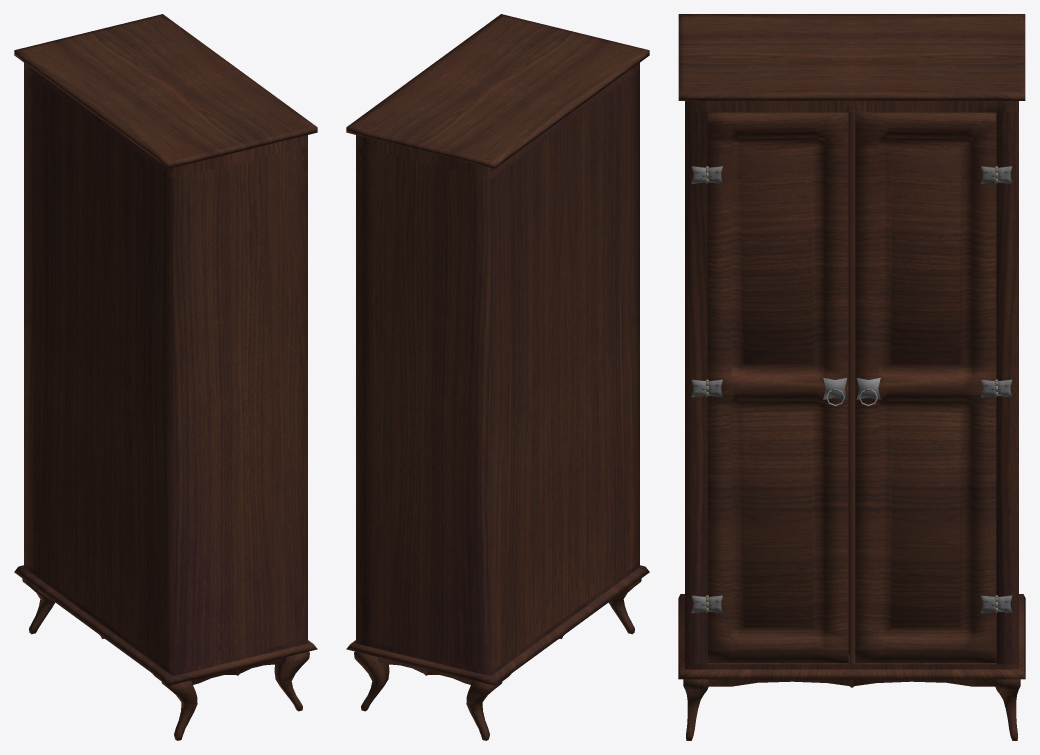
Rendered from oldcabinet model.glb.
3 renders of one model, left to right at view 1: azimuth 30°, elevation 25°; view 2: azimuth 150°, elevation 25°; view 3: azimuth 270°, elevation 25°, orthographic. The views are drawn at different scales.
Visible parts, largest first — view 1: Cube; view 2: Cube; view 3: Cube.
Part boxes in pixels (left/top/right/bottom): Cube: left=14, top=14, right=317, bottom=740; Cube: left=346, top=14, right=649, bottom=740; Cube: left=678, top=14, right=1025, bottom=740.
Bounding box in the file's own units: 1.32 × 4.93 × 2.38.
Materials: 2 (2 with a texture image).
